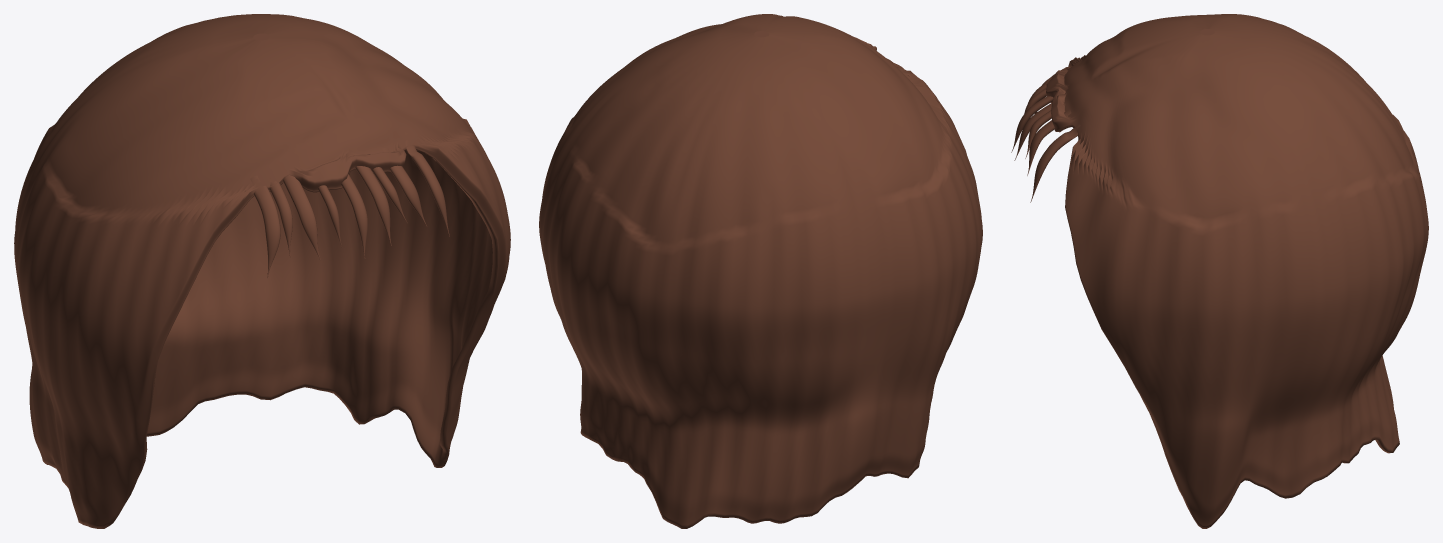
File: side-sweep-headband.glb
3 renders of one model, left to right at view 1: azimuth 30°, elevation 25°; view 2: azimuth 150°, elevation 25°; view 3: azimuth 270°, elevation 25°, orthographic. The views are drawn at different scales.
Parts seen in each view (by area): view 1: Hair / layered lob, Fringe / tapered lock 01, Fringe / tapered lock 03, Fringe / tapered lock 09, Fringe / tapered lock 06, Fringe / tapered lock 05, Fringe / tapered lock 02, Fringe / tapered lock 08; view 2: Hair / layered lob; view 3: Hair / layered lob, Fringe / tapered lock 09.
Part boxes in pixels (bbox=[...]): Hair / layered lob: bbox=[14, 14, 510, 528]; Fringe / tapered lock 01: bbox=[250, 175, 280, 278]; Fringe / tapered lock 03: bbox=[283, 175, 320, 260]; Fringe / tapered lock 09: bbox=[405, 140, 449, 236]; Fringe / tapered lock 06: bbox=[355, 166, 391, 245]; Fringe / tapered lock 05: bbox=[341, 174, 367, 258]; Fringe / tapered lock 02: bbox=[269, 177, 292, 257]; Fringe / tapered lock 08: bbox=[382, 147, 426, 226]; Hair / layered lob: bbox=[539, 14, 982, 528]; Hair / layered lob: bbox=[1046, 14, 1428, 528]; Fringe / tapered lock 09: bbox=[1030, 124, 1080, 202].
Size of the model in its own units: 0.8388 by 0.8786 by 0.7904.
